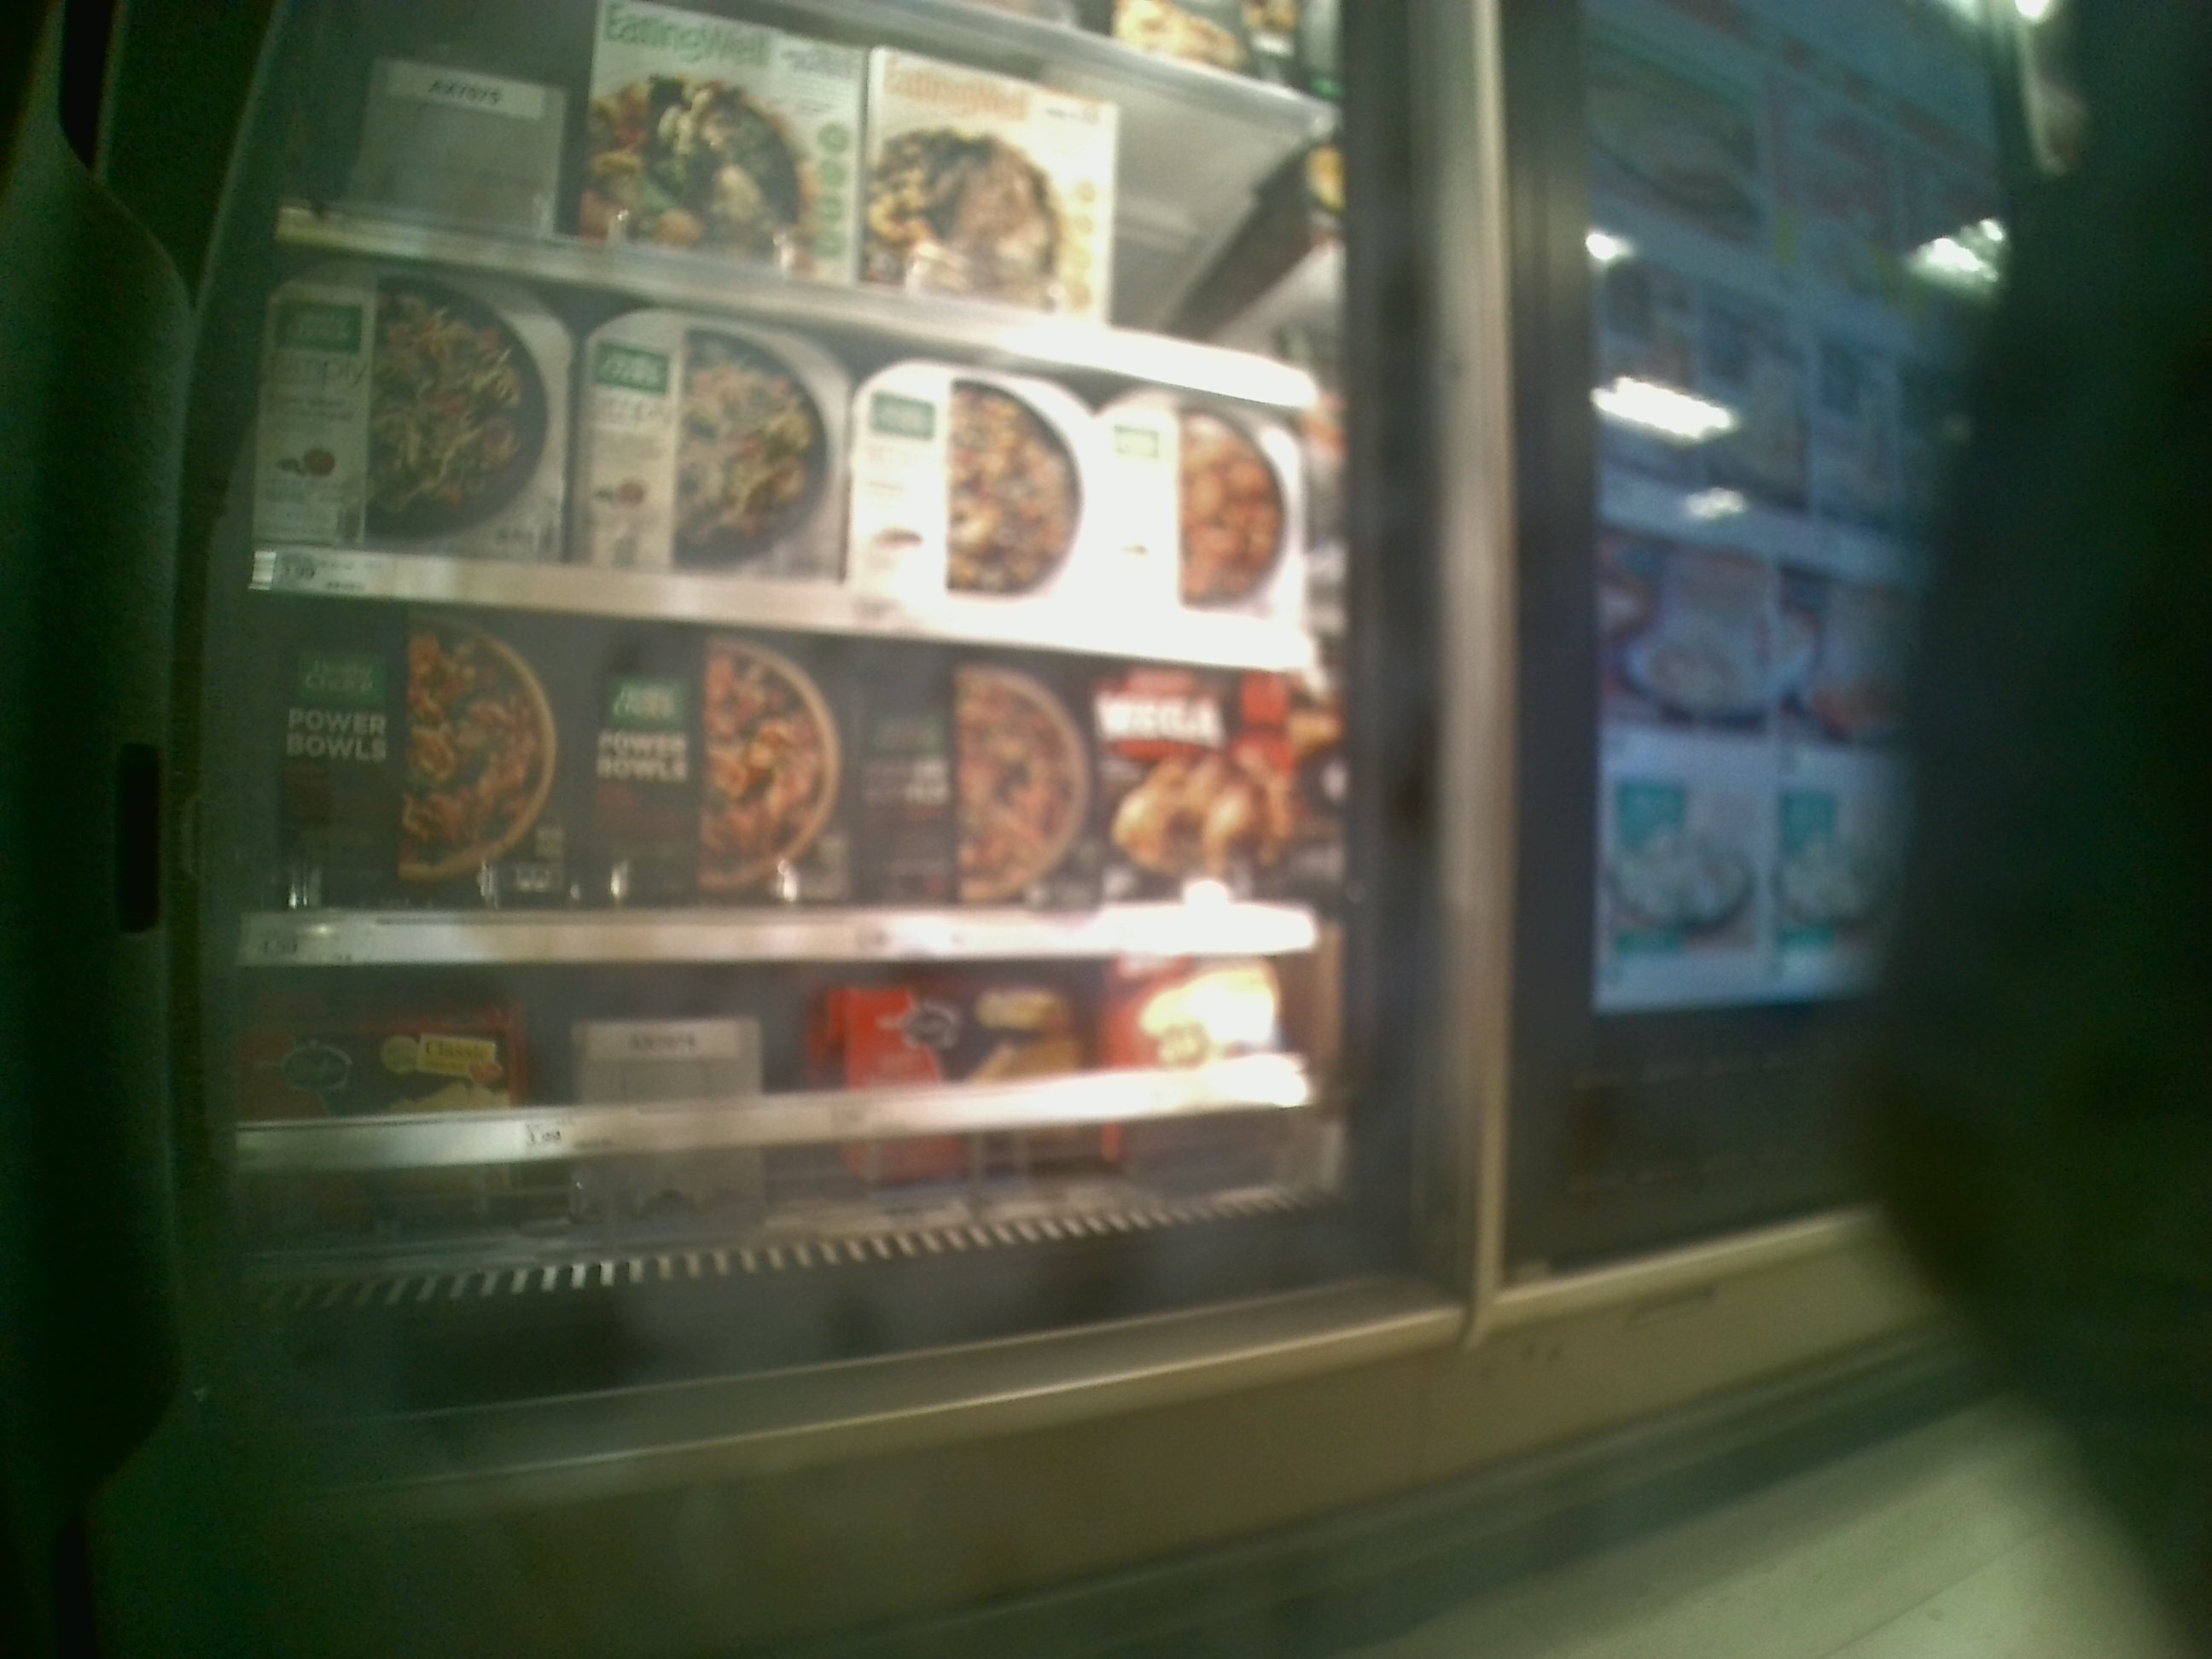shelf: (258, 227, 1325, 673), (240, 598, 1362, 972), (230, 948, 1345, 1324)
